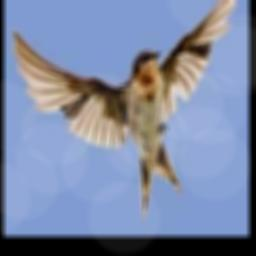Swallow: (12, 0, 239, 222)
